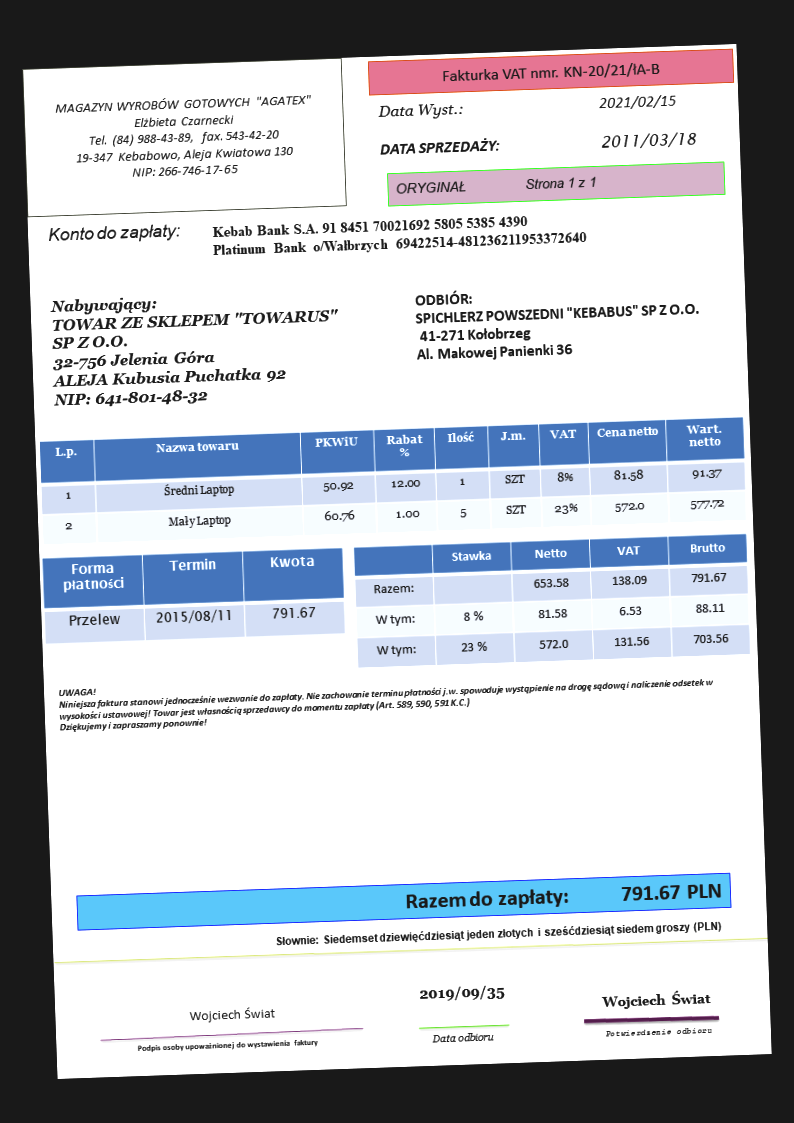Table: (37, 413, 748, 546), (351, 533, 752, 671), (41, 546, 346, 647)
TextBox: (56, 663, 717, 734), (47, 288, 342, 413), (411, 280, 707, 363), (50, 92, 319, 183), (208, 208, 589, 261), (270, 915, 724, 950), (399, 877, 724, 914), (436, 58, 664, 85), (394, 171, 603, 198), (42, 219, 183, 245), (134, 1036, 322, 1055), (376, 134, 500, 161), (595, 987, 715, 1012), (598, 126, 700, 151), (598, 87, 678, 115), (414, 981, 509, 1004), (375, 98, 468, 121), (184, 1002, 277, 1025), (601, 1023, 714, 1040), (430, 1027, 496, 1046)
